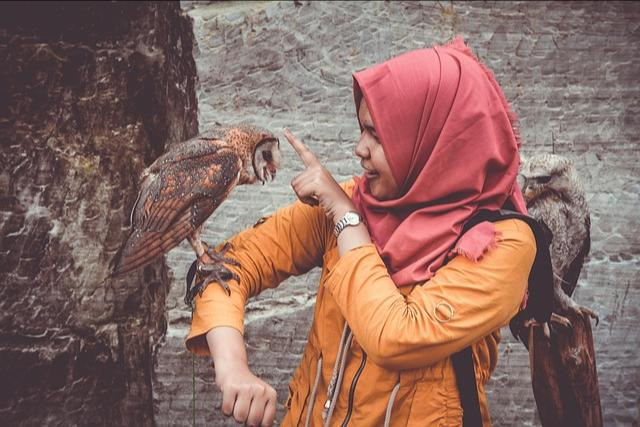Non_Gorille: (152, 34, 606, 398)
